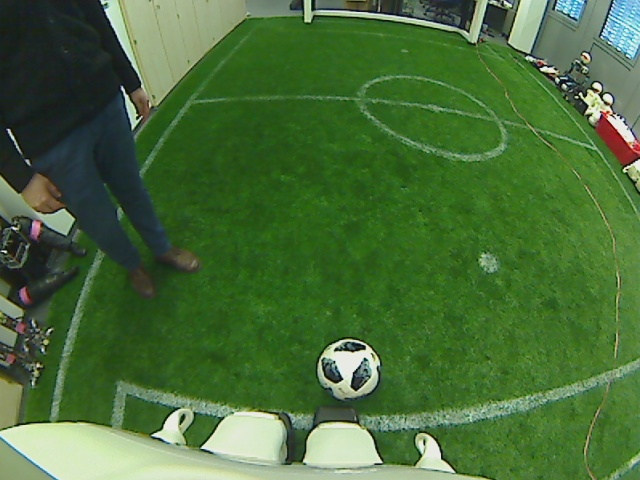ball: (315, 336, 381, 400)
